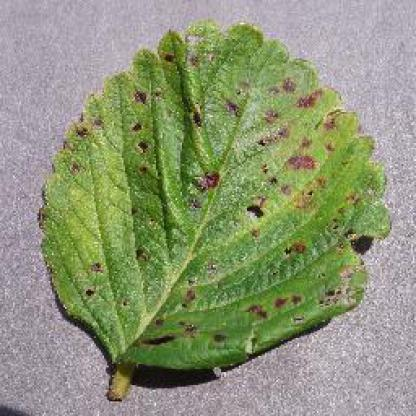leaf scorch: (36, 13, 400, 398)
